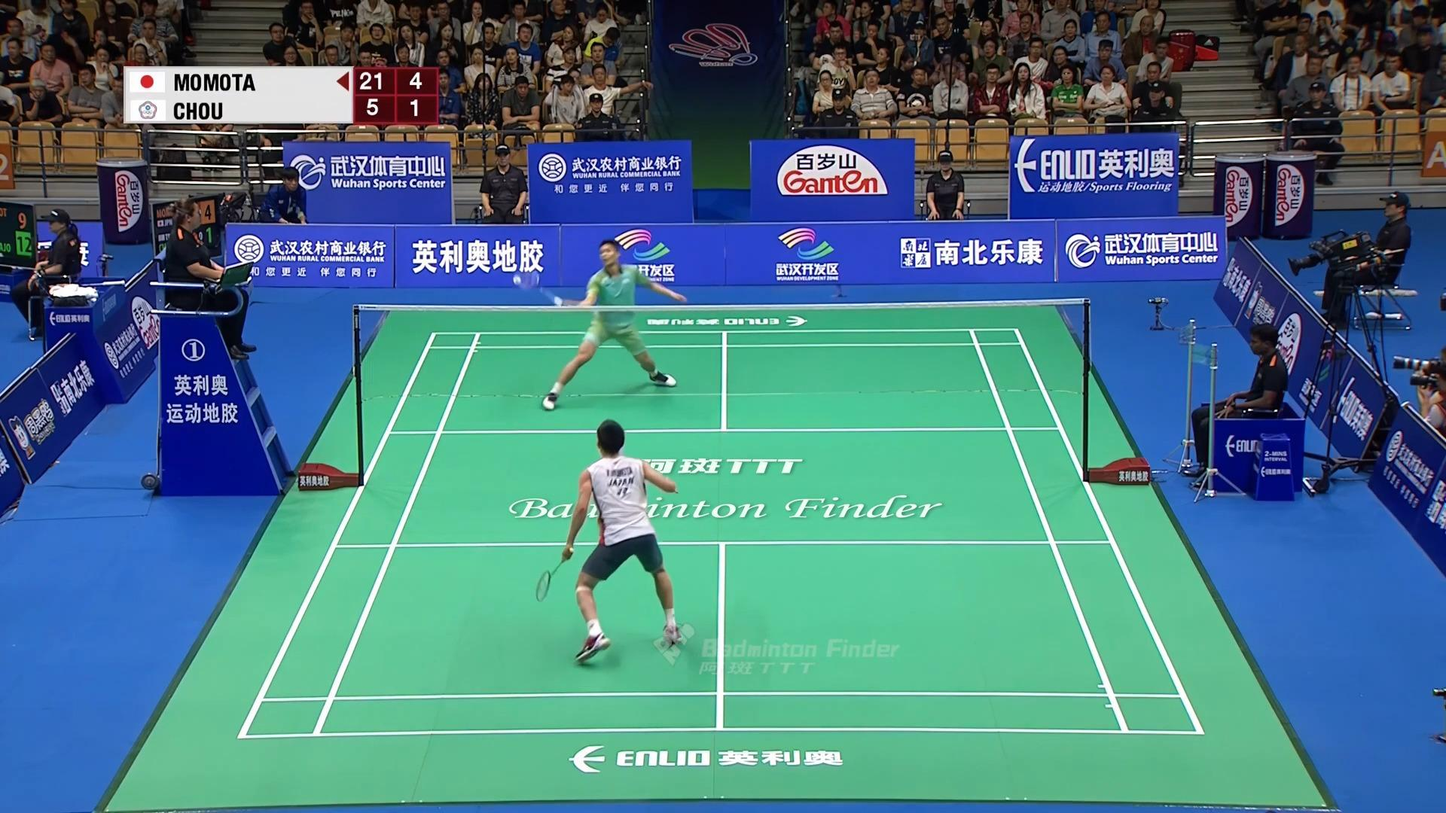shuttlecock: (513, 274, 522, 287)
